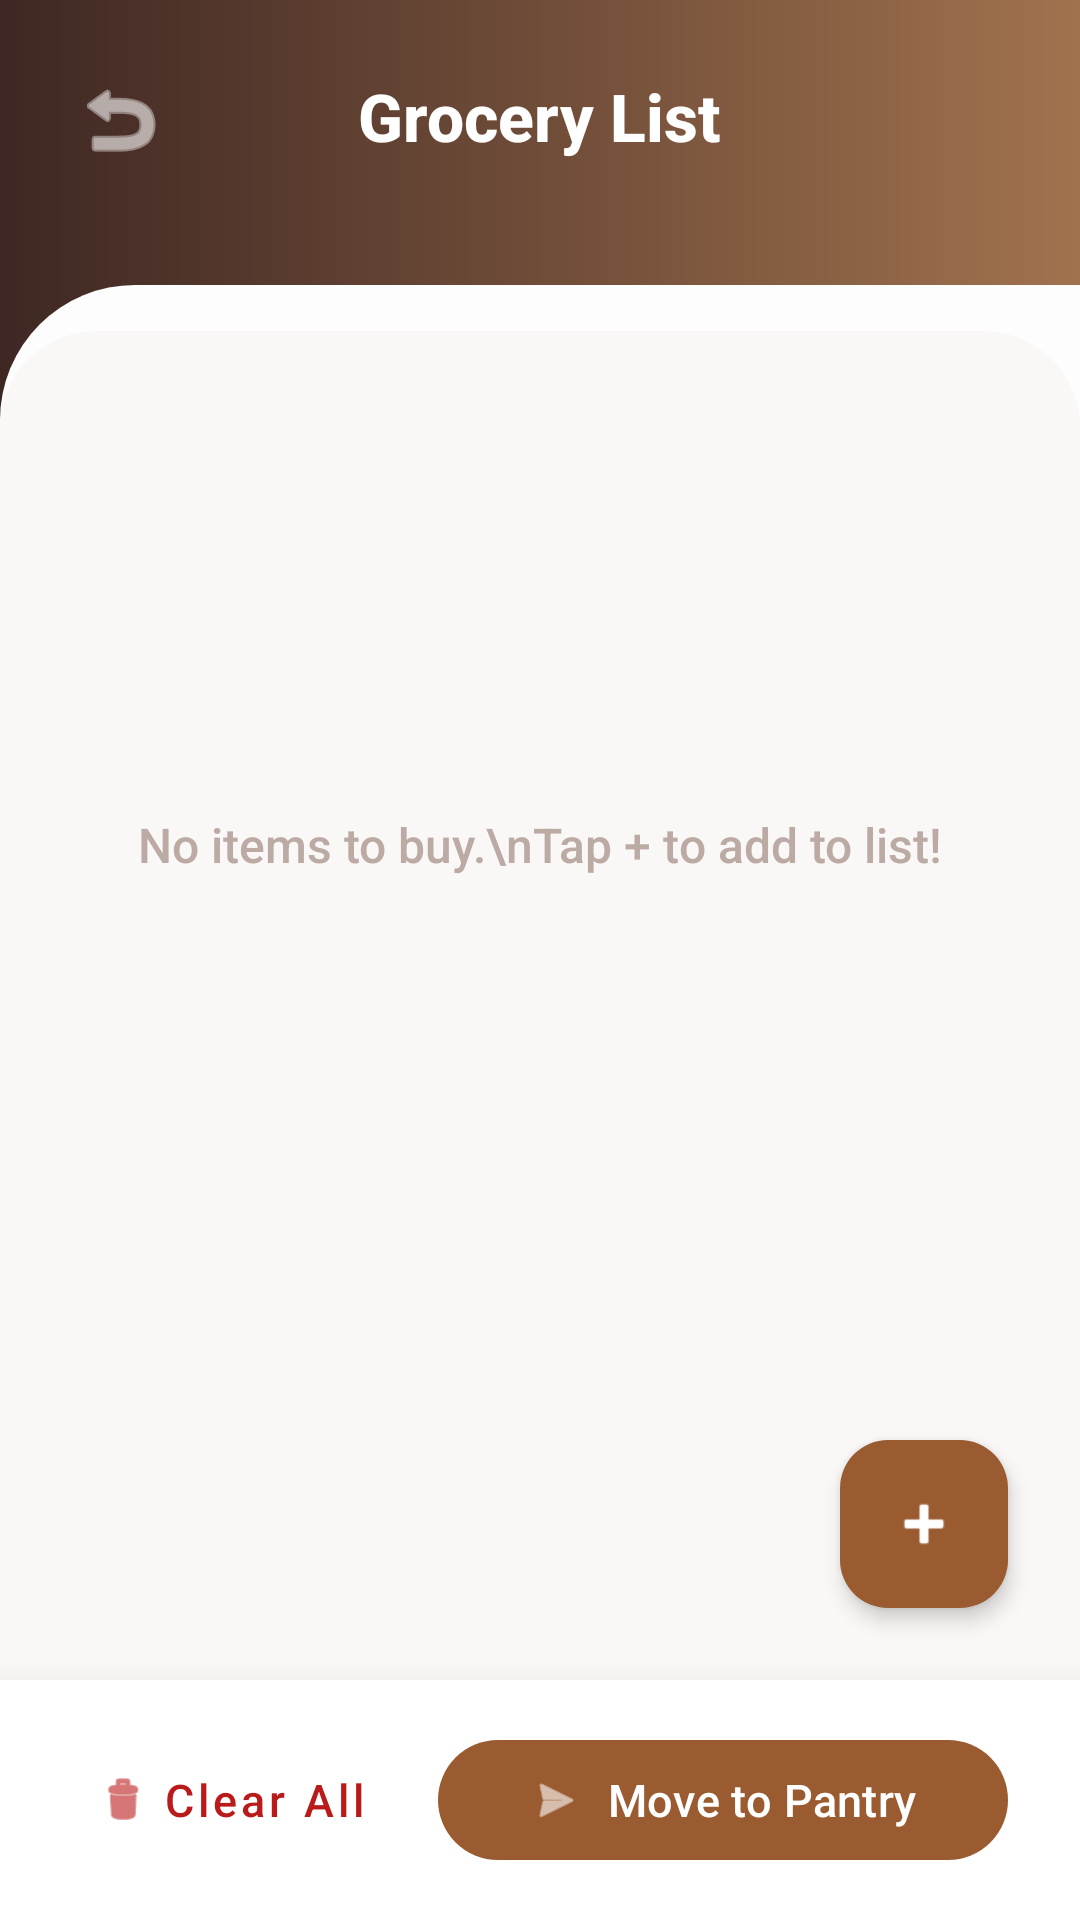

Named icons in this screenshot (1080w x 1920h) and their centers, (x=x, y=y):
add: (x=924, y=1524)
revert: (x=121, y=120)
